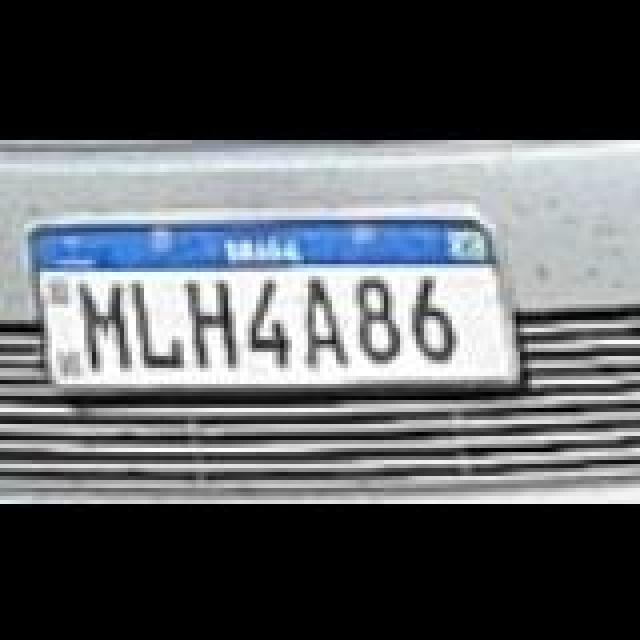4: (244, 274, 292, 366)
6: (404, 270, 460, 362)
8: (352, 274, 408, 366)
A: (298, 274, 350, 366)
H: (188, 278, 244, 370)
L: (134, 276, 186, 364)
M: (74, 276, 134, 372)
